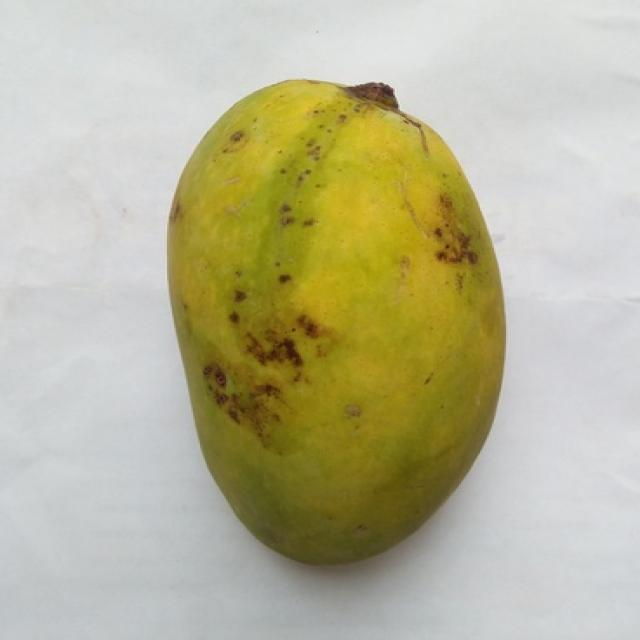Mango: (169, 80, 504, 560)
